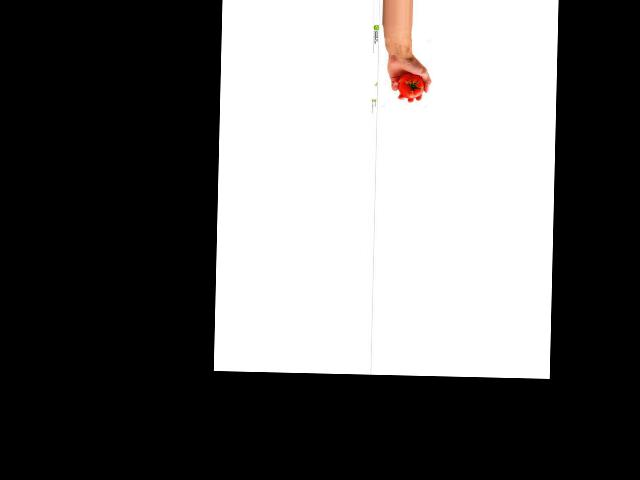tomato: (397, 73, 423, 99)
